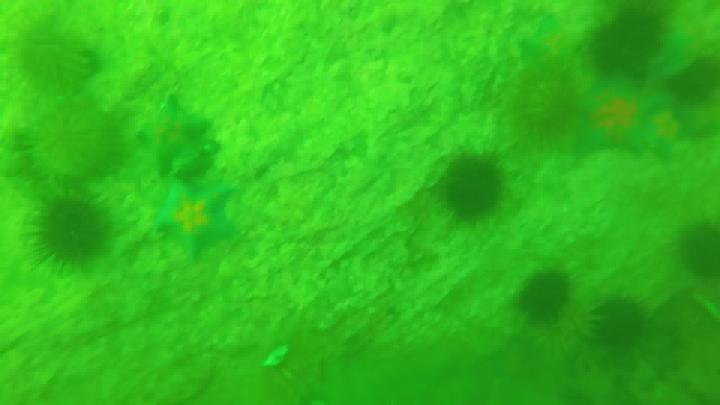echinus: (566, 84, 677, 165), (28, 190, 115, 283), (150, 182, 248, 257), (142, 96, 212, 192), (592, 1, 667, 82), (436, 160, 510, 225), (591, 300, 666, 357), (515, 277, 576, 325), (680, 219, 720, 286)
